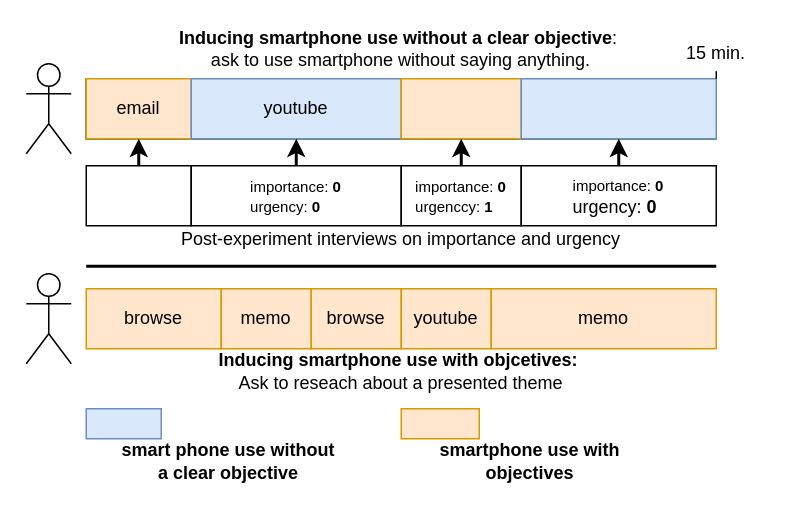
Image size: 788x509. Some labels were removed from this diagram. Here are the shapes that lost their labels. From the top down, the centre of each, then its label:
At [460,108]: "reply on chat".
At [618,108]: "games".
At [138,195]: "importance: 1 urgency: 1".
